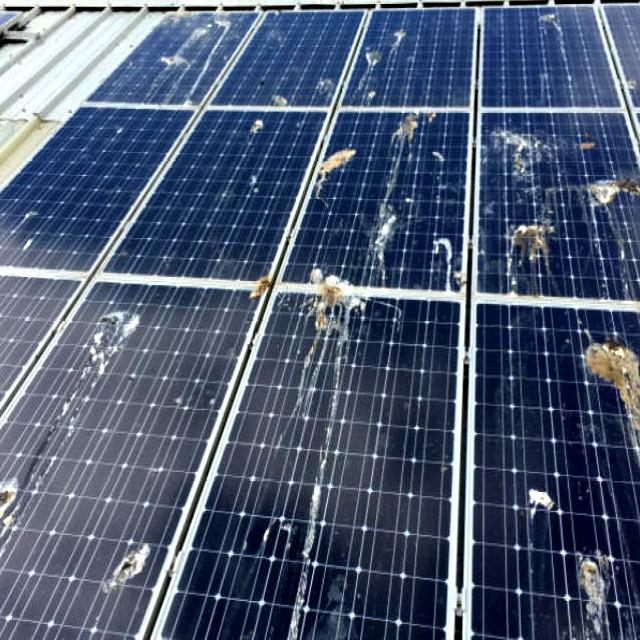bird: (558, 549, 622, 640), (588, 328, 636, 449), (85, 297, 136, 408), (304, 272, 381, 345), (312, 121, 376, 182), (93, 534, 157, 589), (502, 211, 556, 276), (488, 116, 546, 176), (394, 110, 456, 163), (572, 167, 640, 214), (514, 470, 563, 532), (241, 253, 282, 315), (358, 37, 384, 110), (151, 41, 193, 78), (242, 110, 276, 154), (0, 478, 33, 522), (270, 79, 294, 125), (388, 16, 419, 46), (244, 163, 264, 201)
